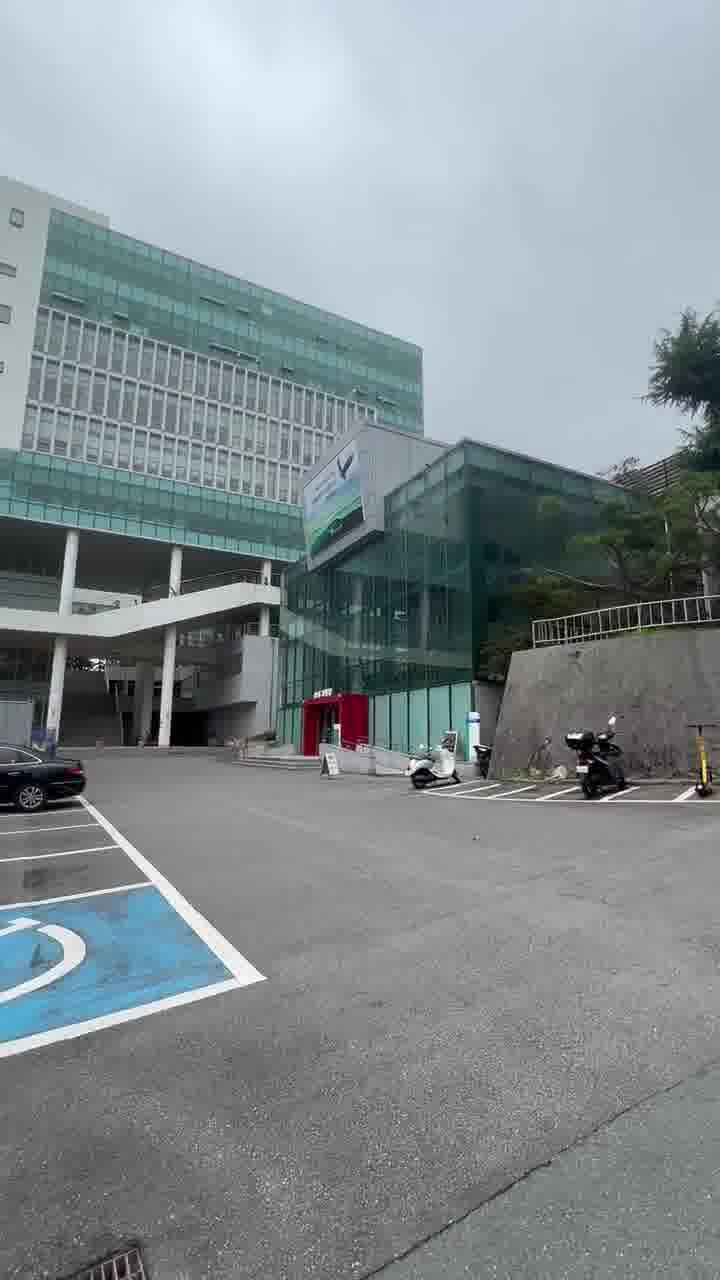building: (294, 422, 514, 754)
